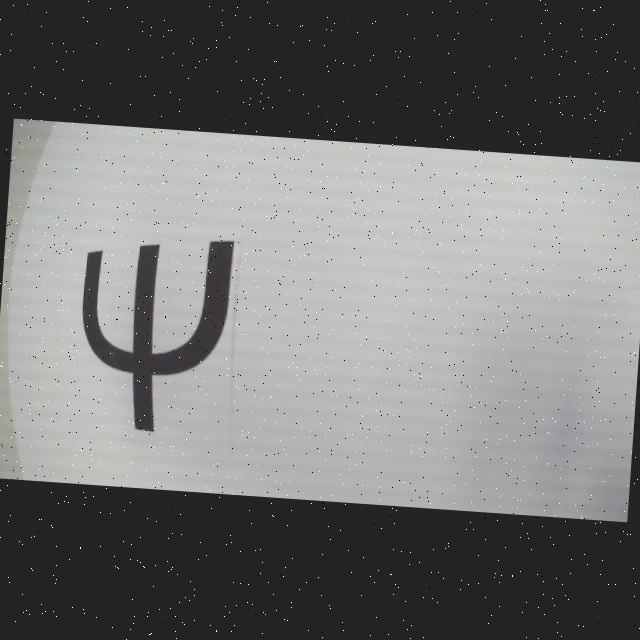PSI: (72, 229, 236, 438)
